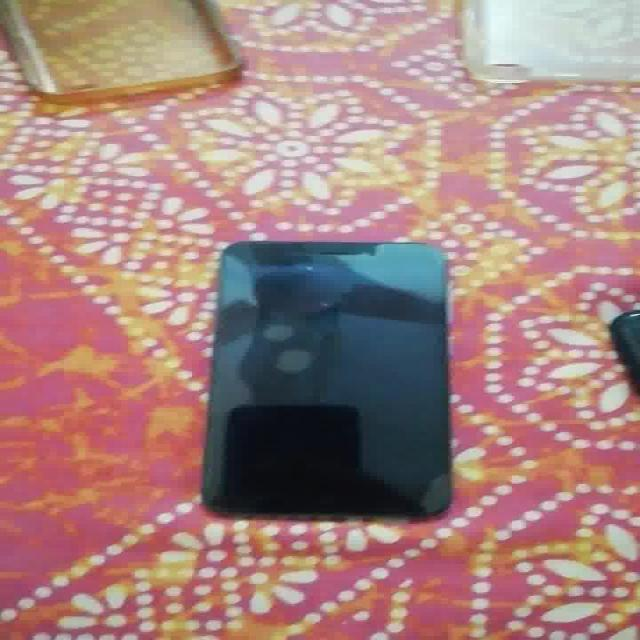Phone: (199, 237, 457, 523)
